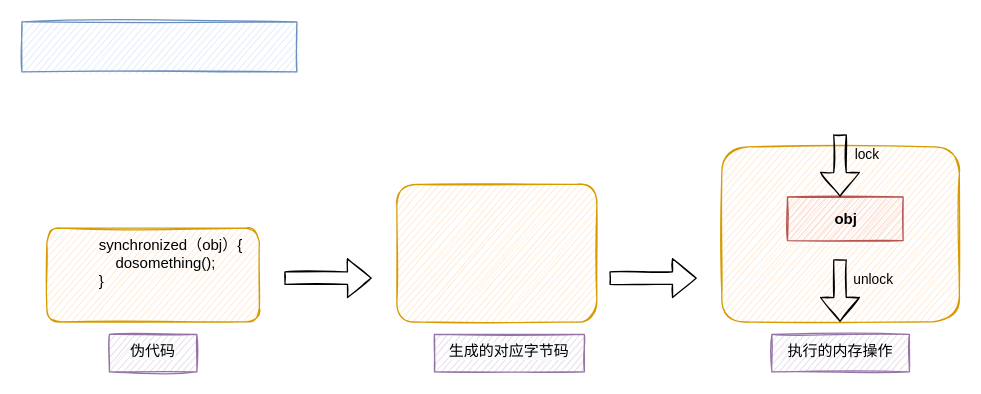
Image size: 981x394. Some labels were removed from this diagram. The centre of each missing label's shape, as x and y in pixels:
"monitorenter; ... ... ... monitorexit;" belongs at point 496,252.
"synchronized 语义" belongs at point 159,46.
